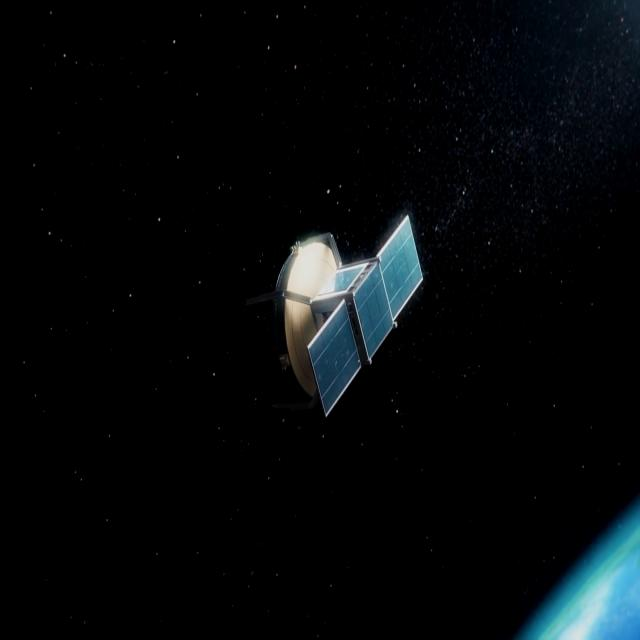medium_debris: (236, 193, 439, 436)
